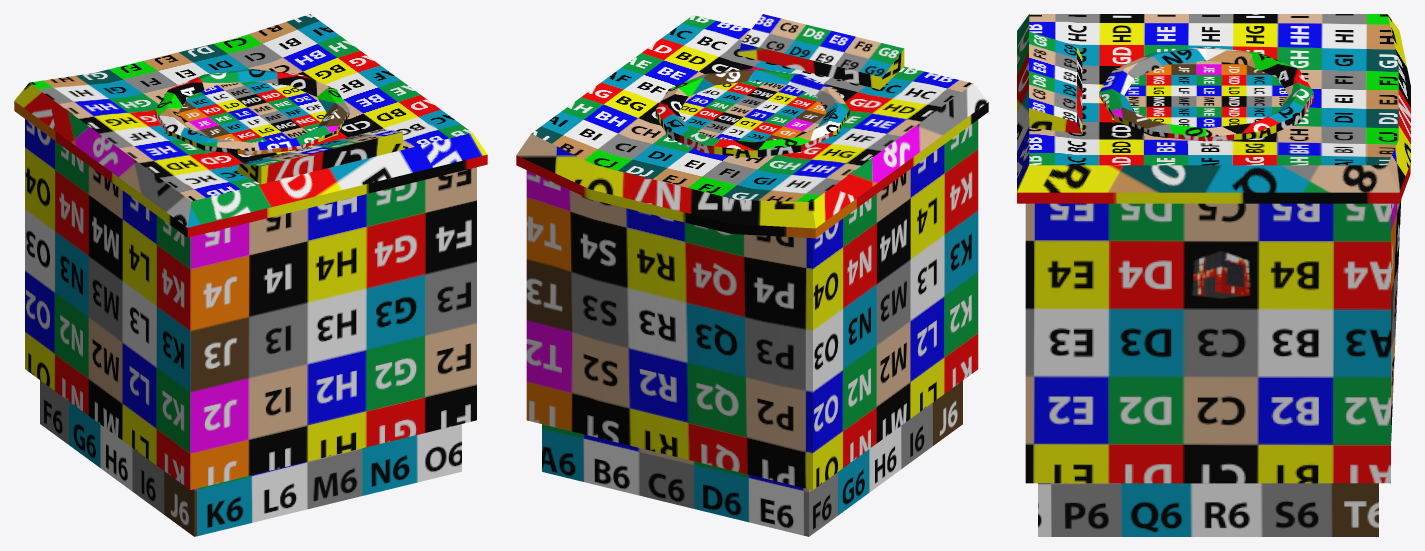
The model's file is WashingMachine2.FBX.
The picture shows the model from 3 angles, left to right: view 1: azimuth 30°, elevation 25°; view 2: azimuth 150°, elevation 25°; view 3: azimuth 270°, elevation 25°; orthographic projection. The views are drawn at different scales.
Visible parts, largest first — view 1: Cylinder005, washingmachine2; view 2: Cylinder005, washingmachine2; view 3: Cylinder005, washingmachine2.
Part boxes in pixels (left/top/right/bottom): Cylinder005: left=14, top=14, right=487, bottom=536; washingmachine2: left=155, top=69, right=349, bottom=155; Cylinder005: left=516, top=14, right=988, bottom=536; washingmachine2: left=655, top=68, right=849, bottom=157; Cylinder005: left=1017, top=14, right=1410, bottom=536; washingmachine2: left=1099, top=47, right=1313, bottom=141.
Bounding box in the file's own units: 1.41 × 1.61 × 1.45.
Materials: 1 (1 with a texture image).
